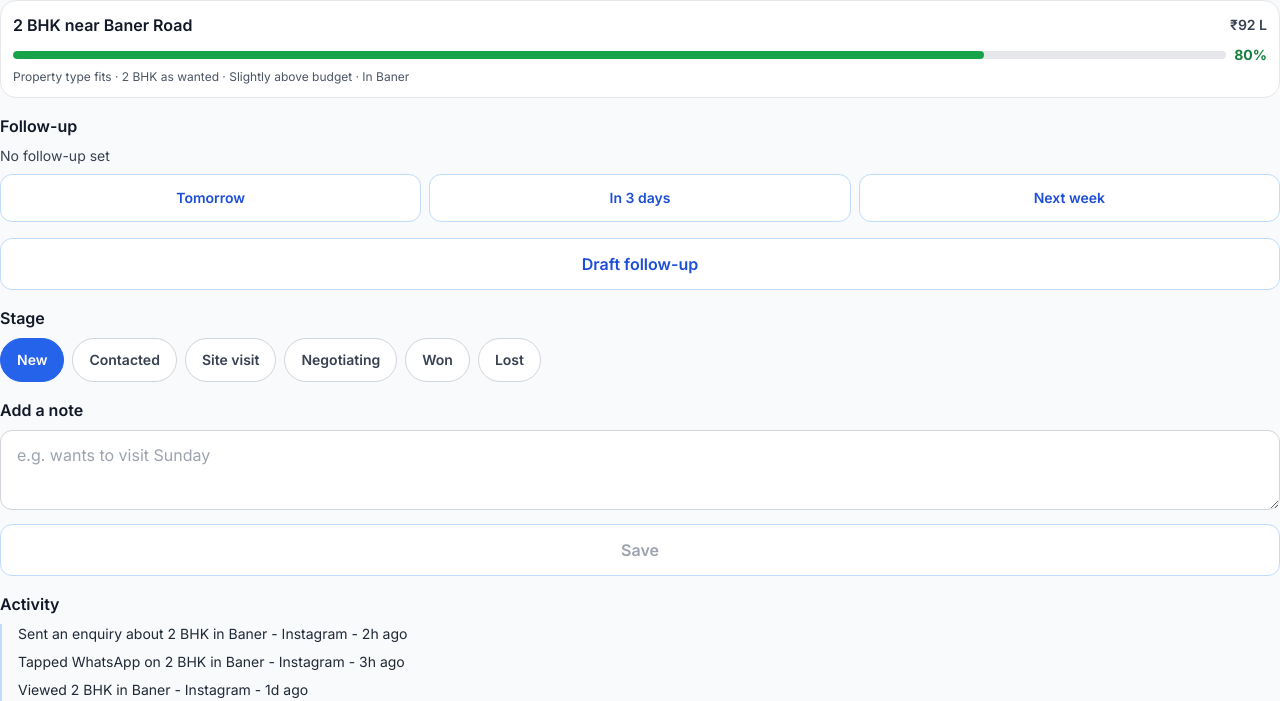
Mark the listing as sold? › does not ask when the listing is already sold
The image size is (1280, 701).
(page scrolled)
Click the button "Won".
click(438, 360)  # box [405,338,470,382]
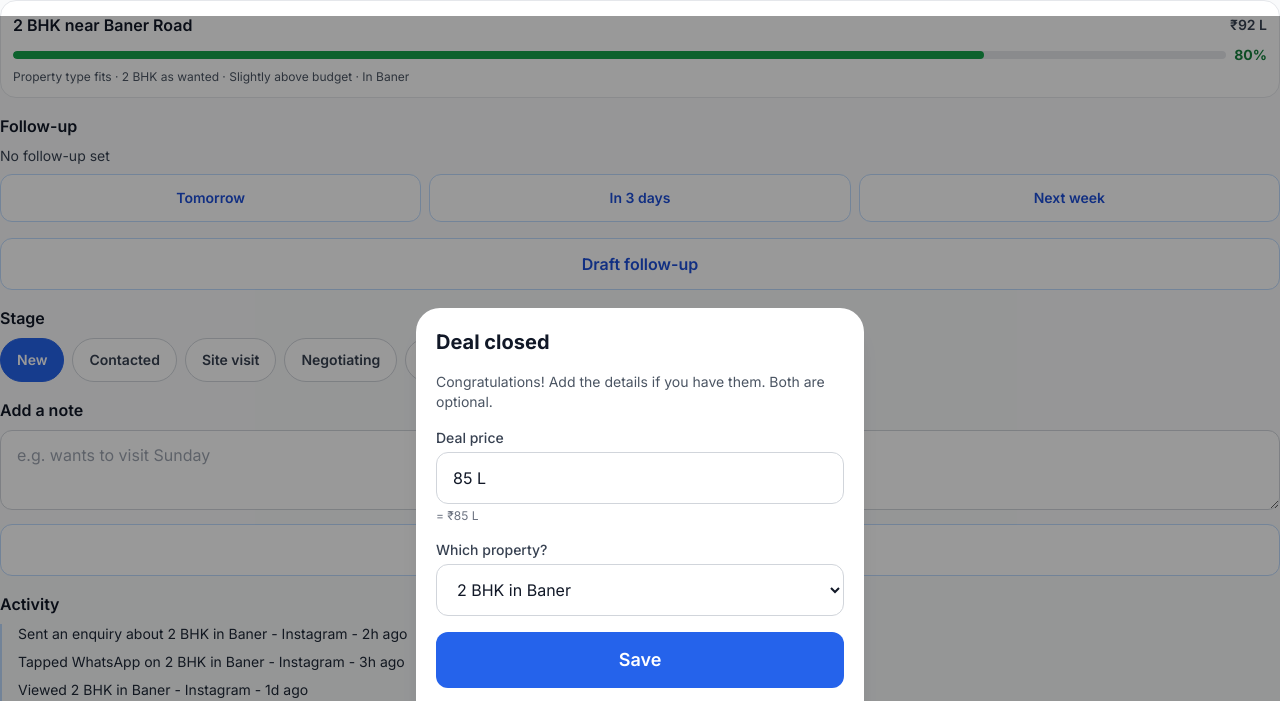
Click the button "Save".
click(640, 660)  # box [436,632,844,688]
(page scrolled)
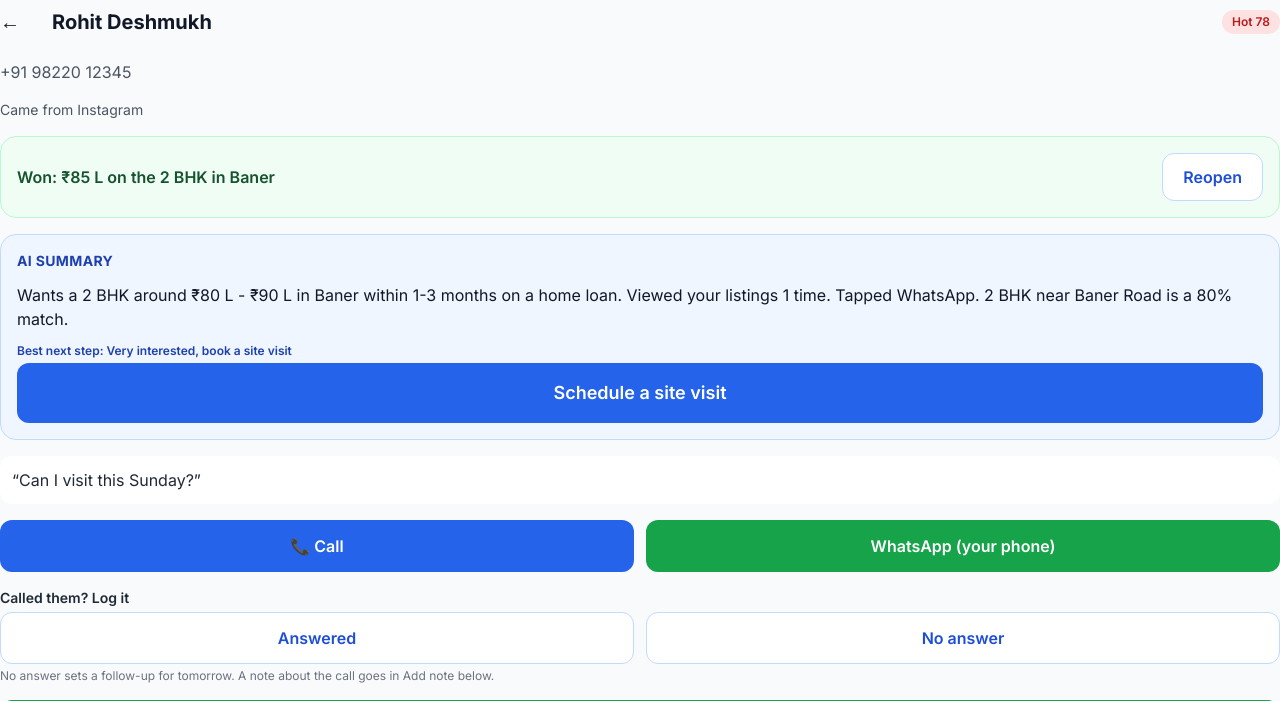
Expected: the element with test id "outcome-summary" is shown, [0,136,1279,218]
